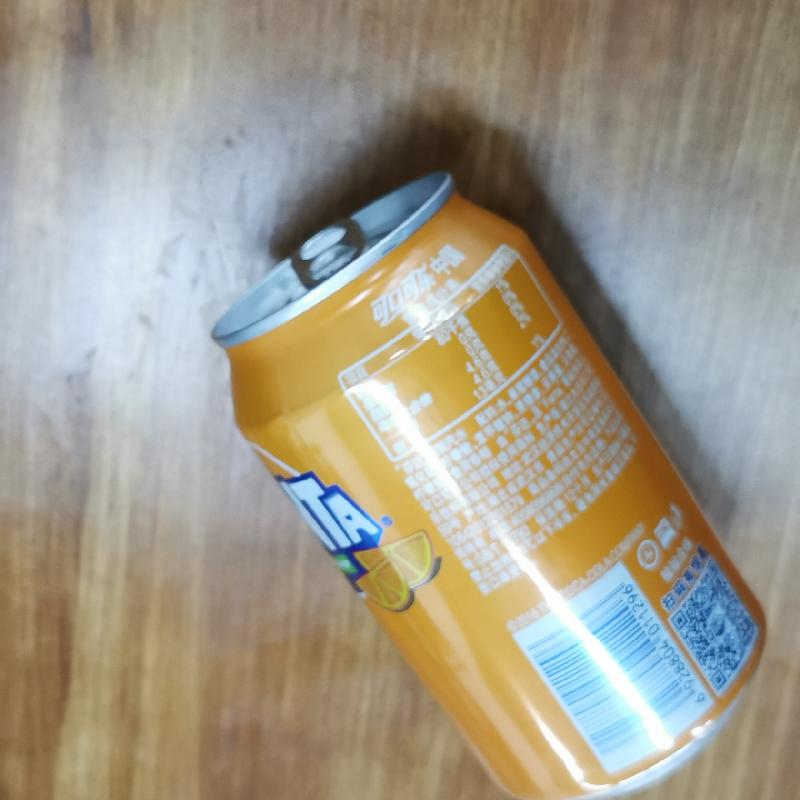cans: (212, 169, 768, 800)
